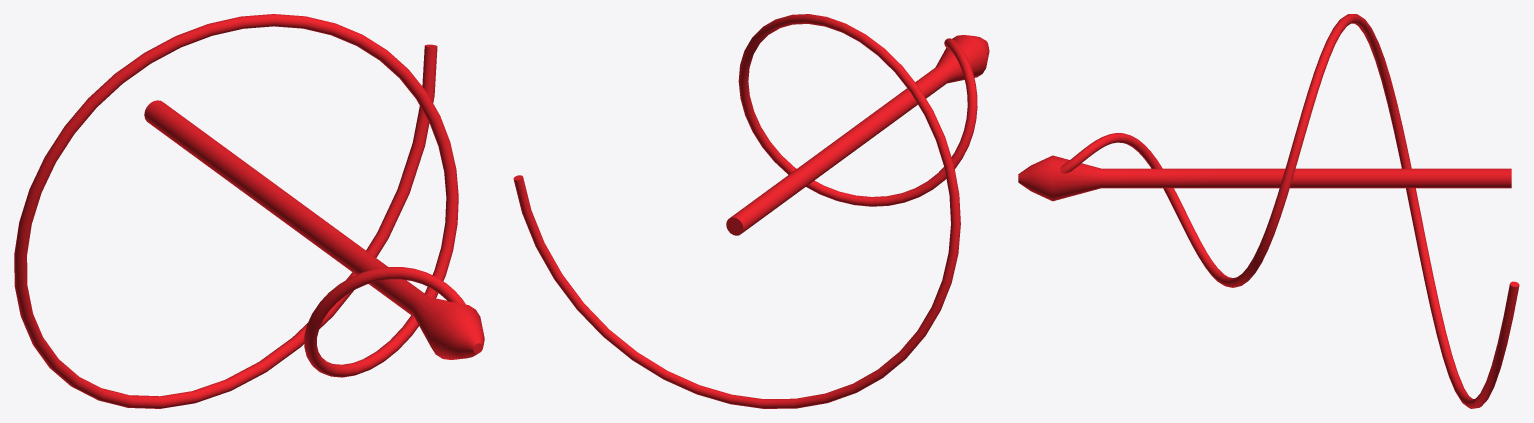
Rendered from seraphinsLaser.FBX.
3 renders of one model, left to right at view 1: azimuth 30°, elevation 25°; view 2: azimuth 150°, elevation 25°; view 3: azimuth 270°, elevation 25°, orthographic. The views are drawn at different scales.
Parts seen in each view (by area): view 1: Helix002; view 2: Helix002; view 3: Helix002.
Part boxes in pixels (bbox=[...]): Helix002: bbox=[14, 14, 484, 408]; Helix002: bbox=[513, 14, 989, 408]; Helix002: bbox=[1018, 14, 1519, 408].
Size of the model in its own units: 4.48 by 3.86 by 5.12.
1 material, 1 textured.
